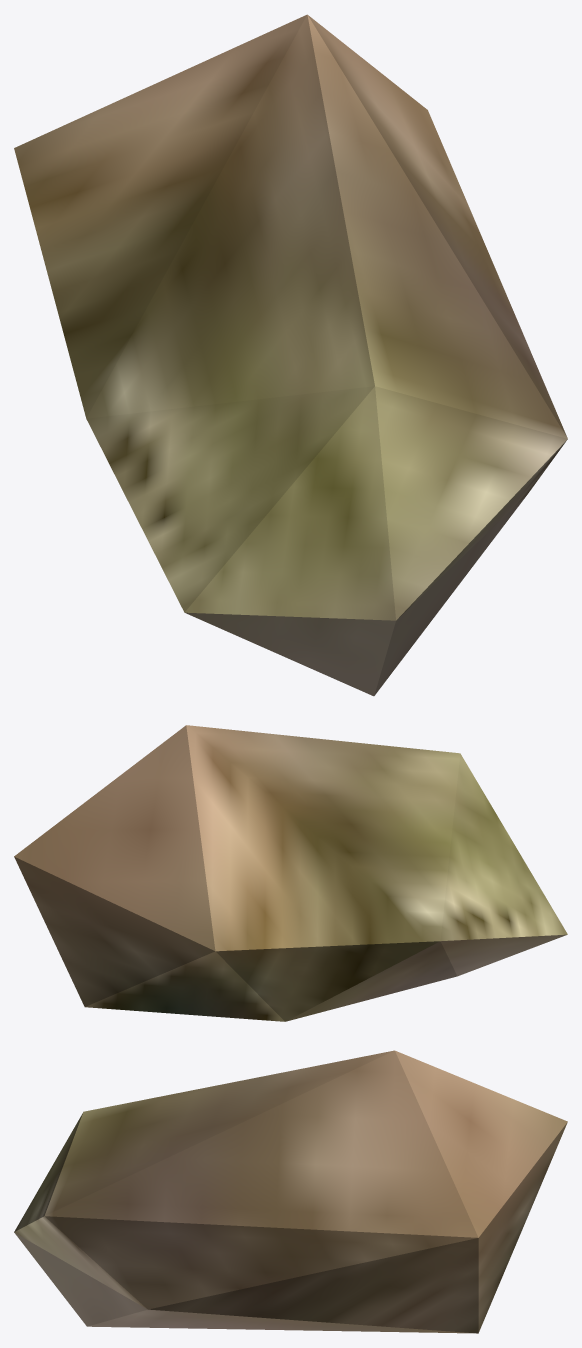
The picture shows the model from 3 angles, top to bottom: view 1: azimuth 30°, elevation 25°; view 2: azimuth 150°, elevation 25°; view 3: azimuth 270°, elevation 25°; orthographic projection. The views are drawn at different scales.
Size of the model in its own units: 0.1824 by 0.1633 by 0.2492.
1 material, 1 textured.
